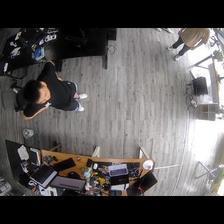normal: (20, 61, 89, 121)
